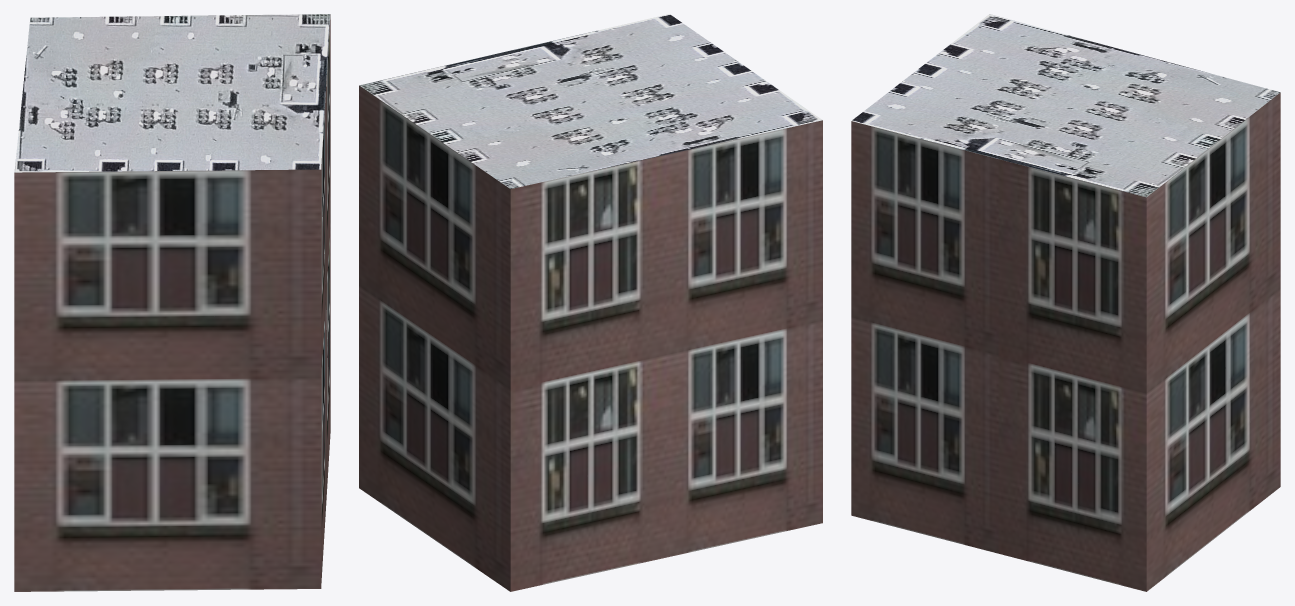
Rendered from ResTex__5115.fbx.
3 views of the same model, side by side, from view 1: azimuth 30°, elevation 25°; view 2: azimuth 150°, elevation 25°; view 3: azimuth 270°, elevation 25° (orthographic). The views are drawn at different scales.
Parts seen in each view (by area): view 1: CityEngineMaterial_12_m, CityEngineMaterial_2_m; view 2: CityEngineMaterial_12_m, CityEngineMaterial_2_m; view 3: CityEngineMaterial_12_m, CityEngineMaterial_2_m.
Part boxes in pixels (x1,y1,x2,y2): CityEngineMaterial_12_m: [14, 14, 330, 591]; CityEngineMaterial_2_m: [14, 14, 330, 172]; CityEngineMaterial_12_m: [359, 85, 822, 591]; CityEngineMaterial_2_m: [359, 14, 822, 188]; CityEngineMaterial_12_m: [851, 92, 1280, 591]; CityEngineMaterial_2_m: [852, 14, 1280, 197].
Bounding box in the file's own units: 5.98 × 6 × 5.92.
2 materials, 2 textured.
